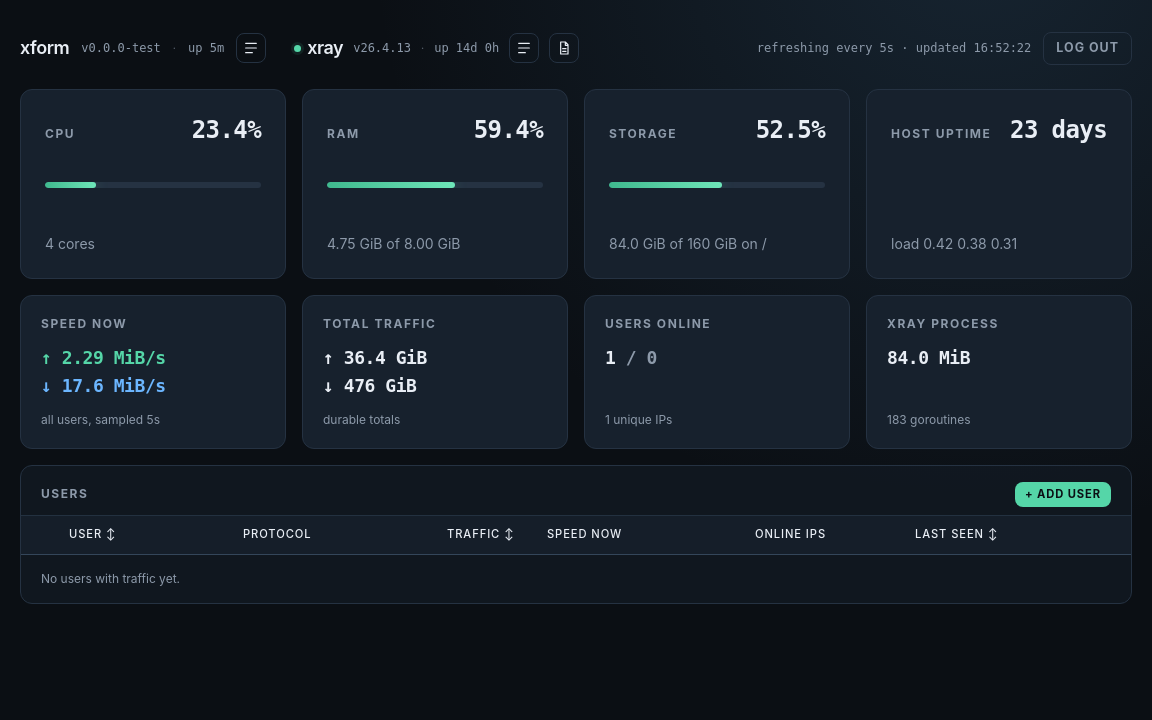
host stats › keeps the session and shows an error when logout cannot reach the panel
The image size is (1152, 720).
Check: the text "23.4%" is shown, box [192,114,261,146]
Click the button "Log out": x=1088, y=48 [1043,32,1132,65]
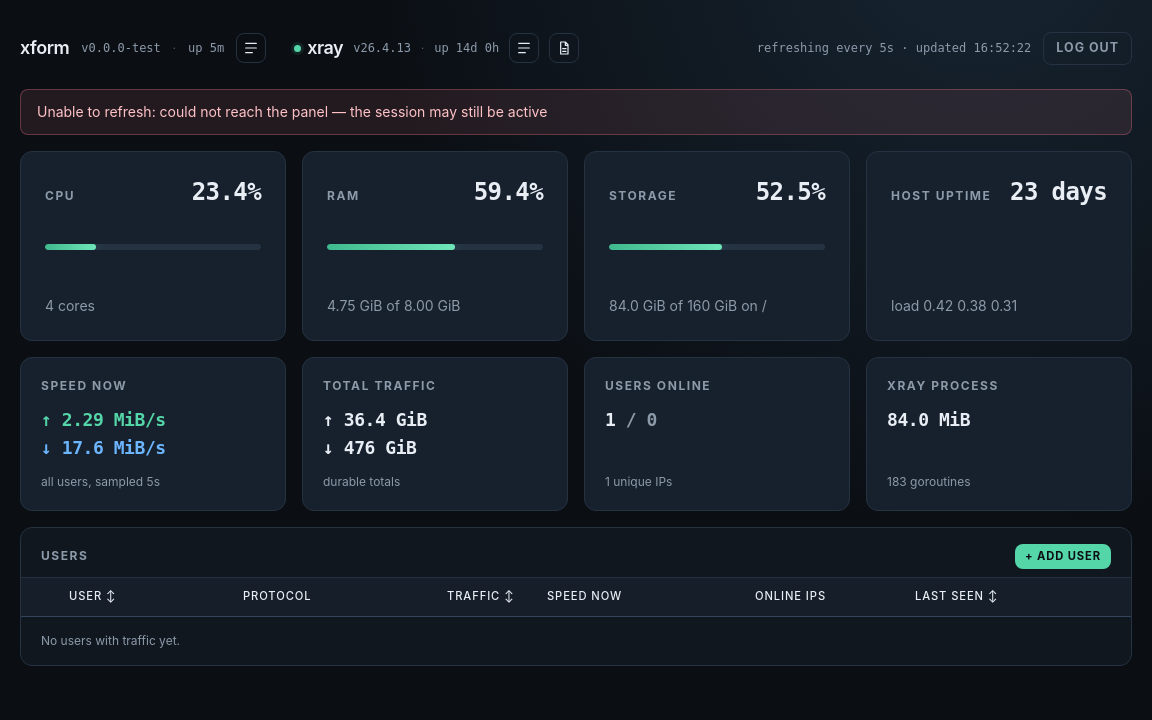
Check: the text "may still be active" is shown, box [160,103,547,120]
